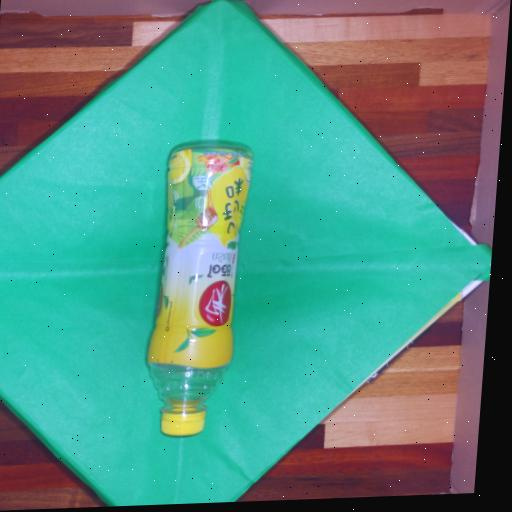bottle: (147, 144, 252, 435)
